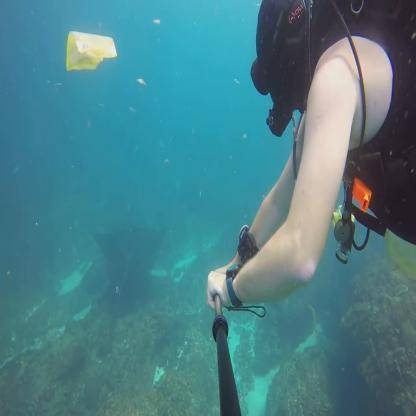Rác: (60, 29, 116, 69), (154, 19, 158, 21)
